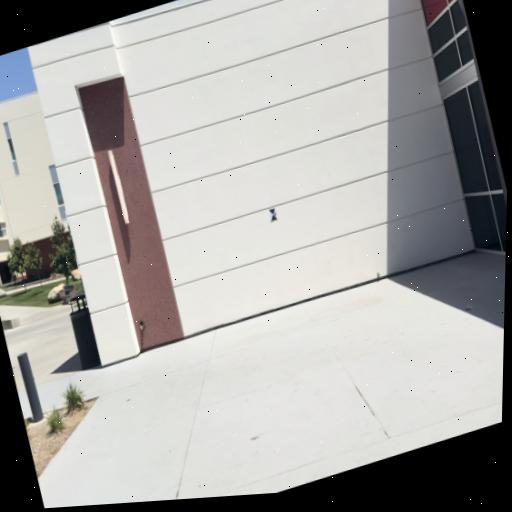target0: (268, 208, 278, 222)
